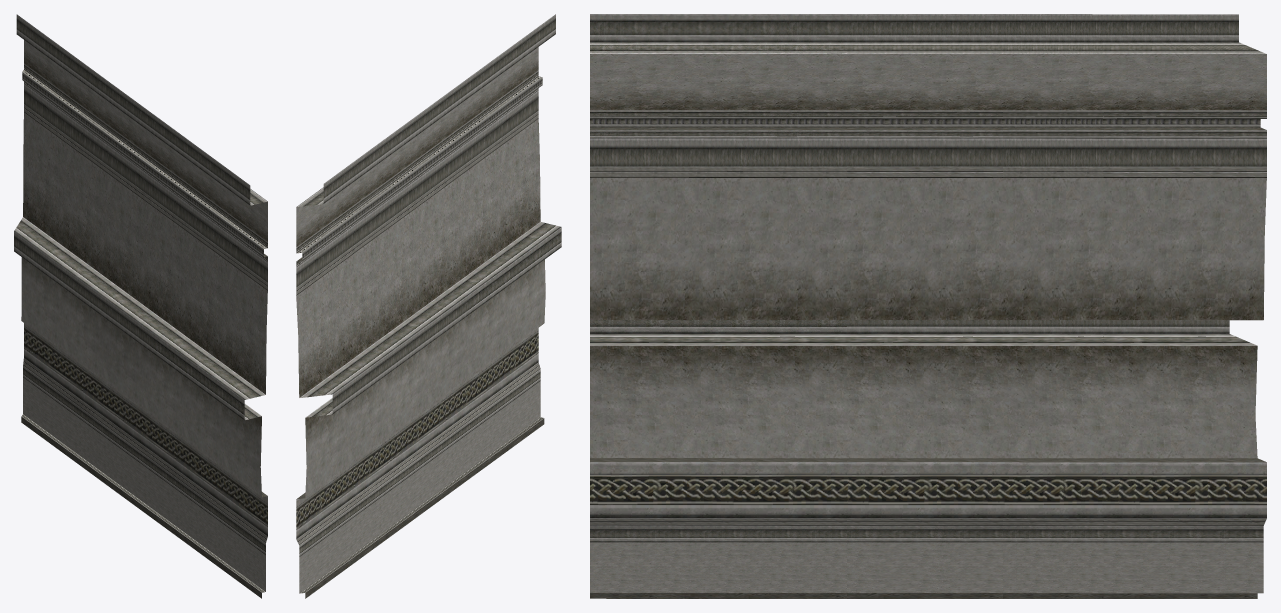
Rendered from DWARF_PALACE_GEAR_ROOM_WALL01A.fbx.
The picture shows the model from 3 angles, left to right: view 1: azimuth 30°, elevation 25°; view 2: azimuth 150°, elevation 25°; view 3: azimuth 270°, elevation 25°; orthographic projection. The views are drawn at different scales.
Visible parts, largest first — view 1: DWARF_PALACE_GEAR_ROOM_WALL01A; view 2: DWARF_PALACE_GEAR_ROOM_WALL01A; view 3: DWARF_PALACE_GEAR_ROOM_WALL01A.
Part boxes in pixels (x1,y1,x2,y2): DWARF_PALACE_GEAR_ROOM_WALL01A: [14, 14, 267, 598]; DWARF_PALACE_GEAR_ROOM_WALL01A: [296, 14, 561, 598]; DWARF_PALACE_GEAR_ROOM_WALL01A: [590, 14, 1266, 598].
Bounding box in the file's own units: 12132 × 205001 × 217969.
Materials: 7 (7 with a texture image).
